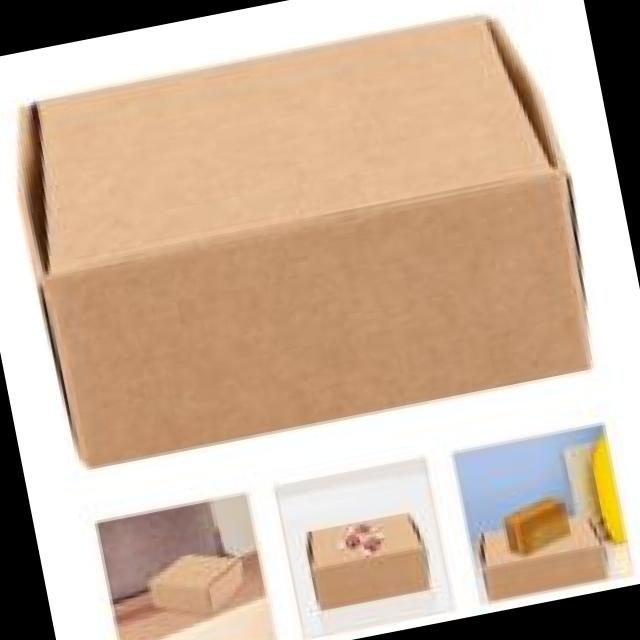box: (16, 13, 594, 470), (305, 511, 432, 613), (478, 517, 610, 602), (148, 552, 244, 617), (503, 496, 574, 556)
